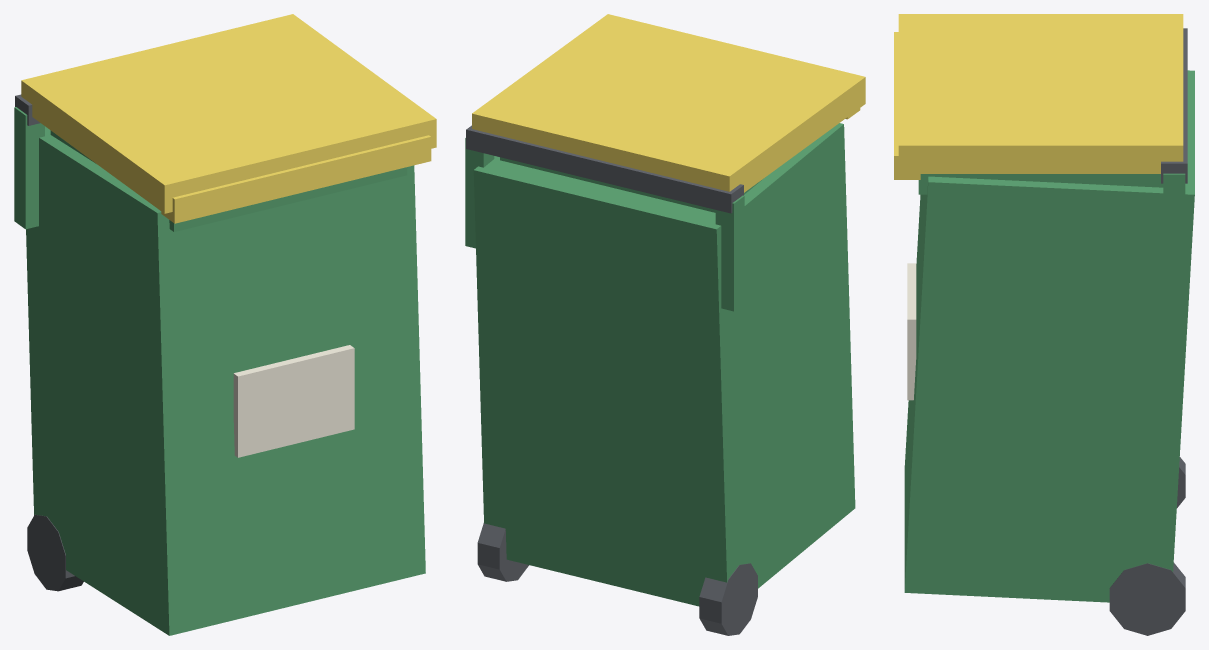
Rendered from lawn-mowing-simulator-kit-wheelie-bin-b3a9ac25.glb.
The picture shows the model from 3 angles, left to right: view 1: azimuth 30°, elevation 25°; view 2: azimuth 150°, elevation 25°; view 3: azimuth 270°, elevation 25°; orthographic projection. The views are drawn at different scales.
Parts seen in each view (by area): view 1: wheelie-bin, lid; view 2: wheelie-bin, lid; view 3: wheelie-bin, lid.
Boxes of the visible parts, bbox=[...] form: wheelie-bin: bbox=[14, 94, 425, 635]; lid: bbox=[21, 14, 436, 223]; wheelie-bin: bbox=[465, 123, 855, 635]; lid: bbox=[472, 14, 865, 192]; wheelie-bin: bbox=[904, 28, 1194, 635]; lid: bbox=[894, 14, 1183, 179].
Size of the model in its own units: 0.73 by 1.23 by 0.6763.
